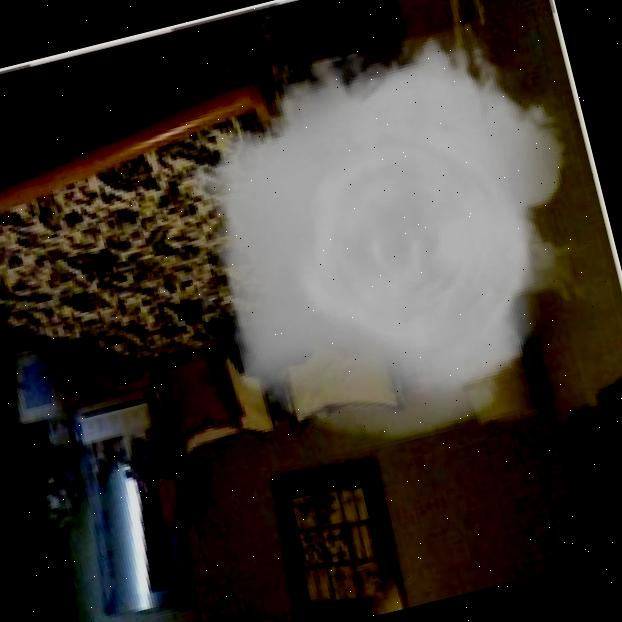smoke: (150, 3, 622, 481)
